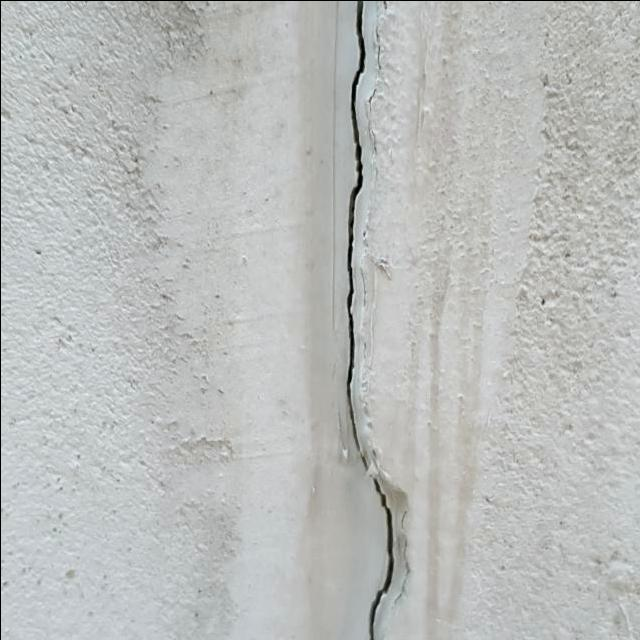SurfaceCrack: (297, 1, 440, 640)
